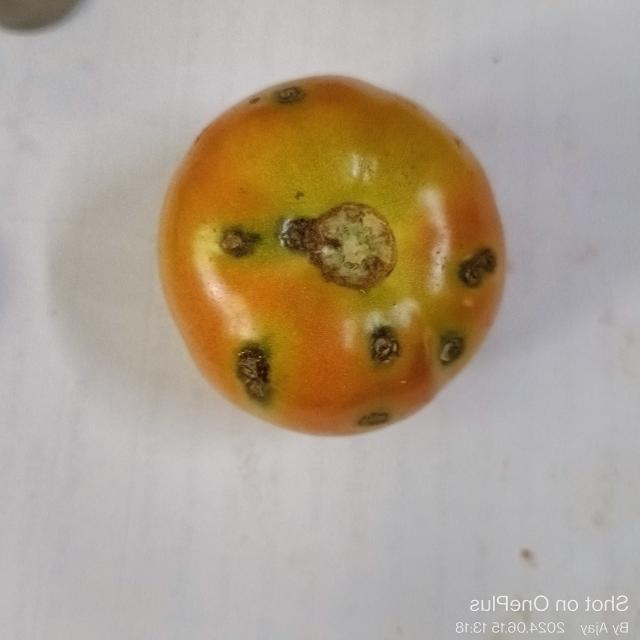Bacterial_Spot: (236, 340, 272, 403), (212, 222, 261, 262), (282, 214, 318, 258), (458, 250, 498, 287), (366, 323, 399, 363), (438, 329, 470, 366), (276, 80, 306, 110)
